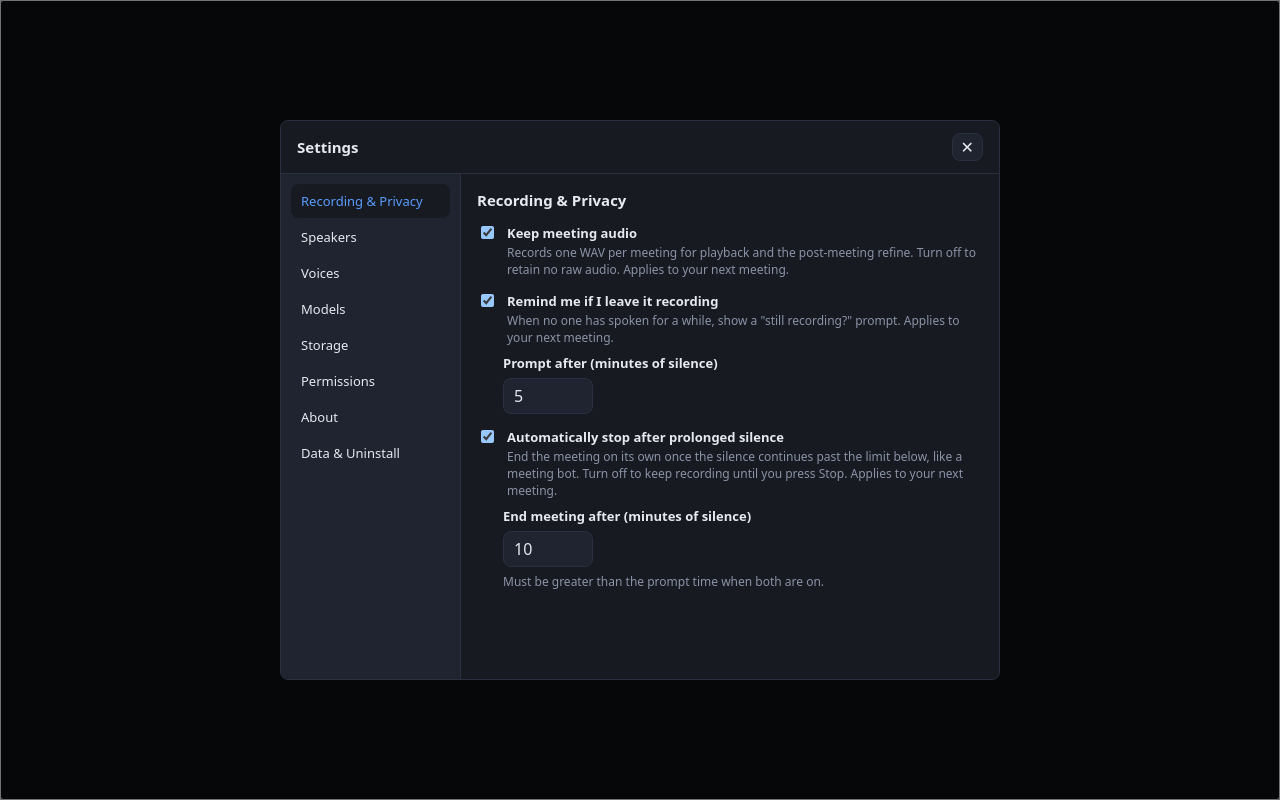
SettingsPage voices panel › lists people and expands to their stored samples
Click the button "Voices".
click(370, 273)  # box [291,256,450,290]
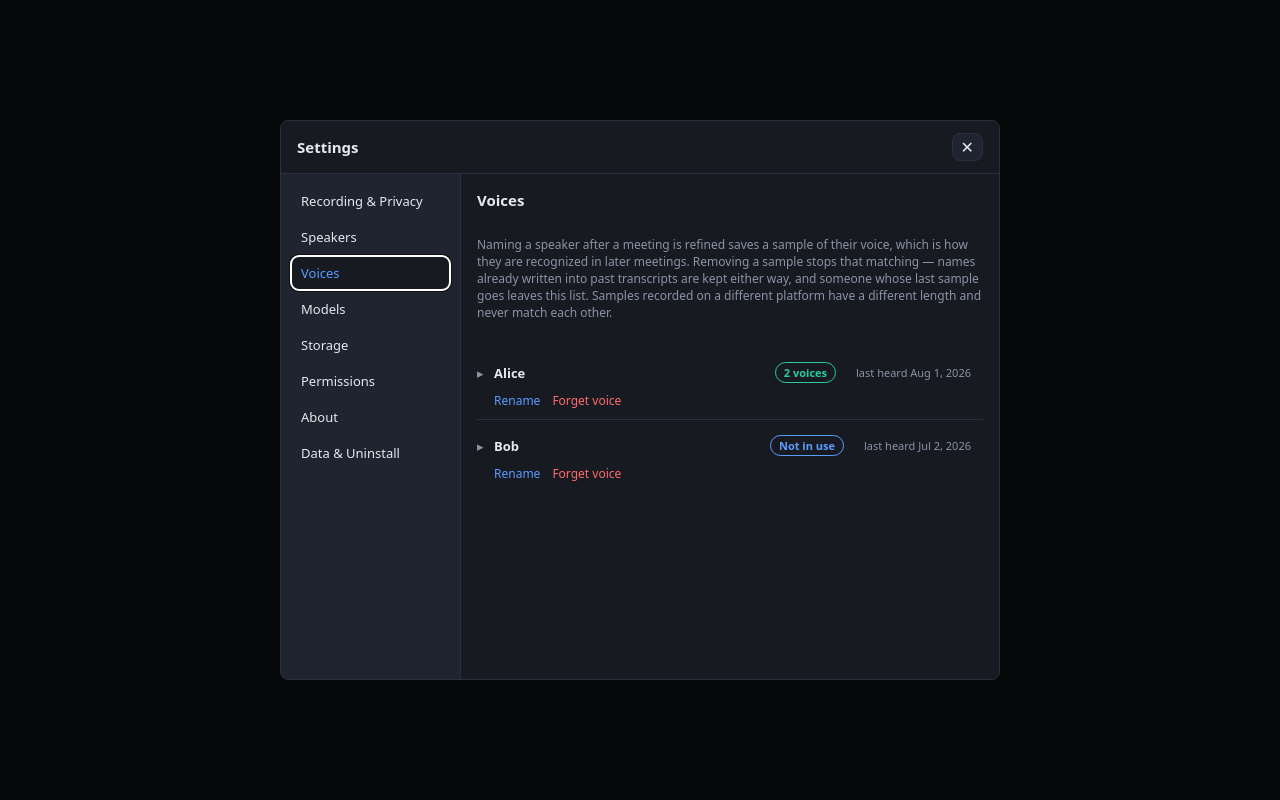
Check: the text "Weekly Sync" is not shown
Check: the text "2 voices" is shown, box [775,362,836,383]
Check: the text "Not in use" is shown, box [770,435,844,456]
Click the button "▸ Alice".
click(501, 372)  # box [477,364,525,382]
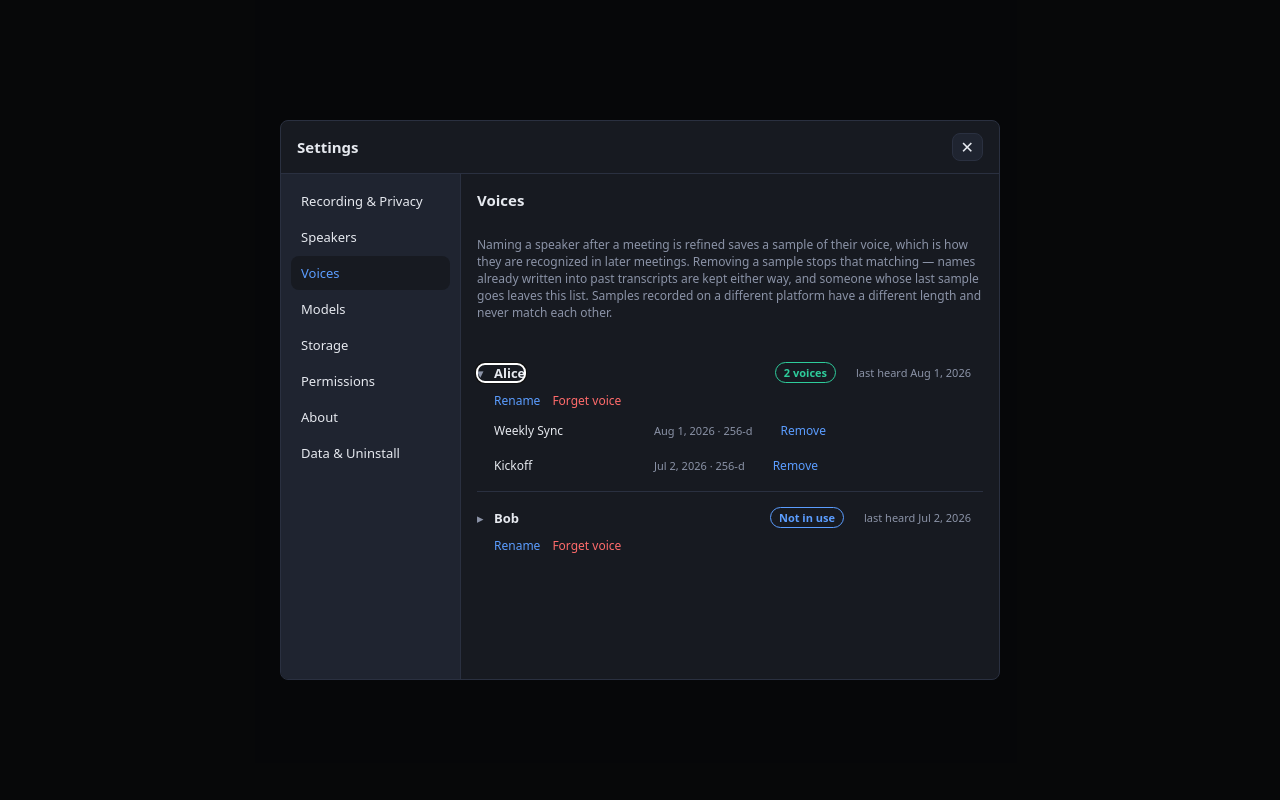
Check: the text "Weekly Sync" is shown, box [494,422,563,439]
Check: the text "Kickoff" is shown, box [494,457,532,474]
